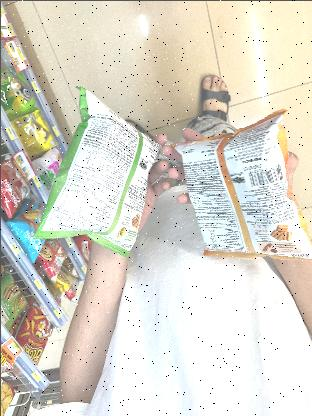Others: (23, 88, 173, 258), (168, 114, 312, 266)
